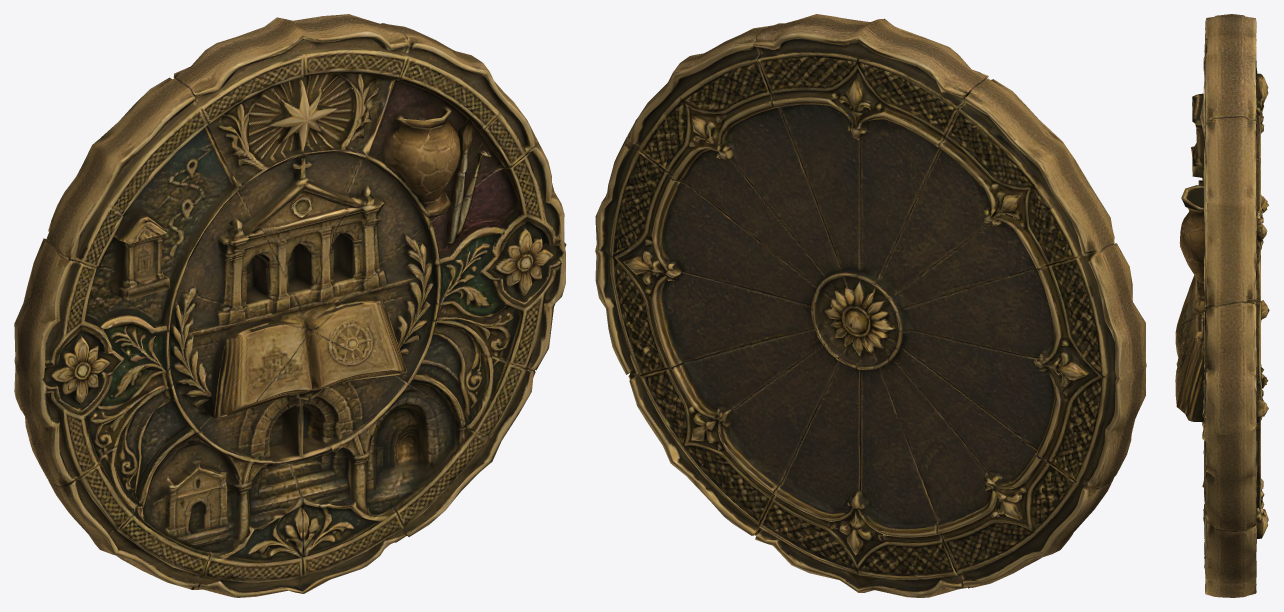
Rendered from Seal.glb.
3 views of the same model, side by side, from view 1: azimuth 30°, elevation 25°; view 2: azimuth 150°, elevation 25°; view 3: azimuth 270°, elevation 25° (orthographic). The views are drawn at different scales.
Visible parts, largest first — view 1: tripo_node_22ab0608-66ba-4b8e-902a-ce7c079e272f; view 2: tripo_node_22ab0608-66ba-4b8e-902a-ce7c079e272f; view 3: tripo_node_22ab0608-66ba-4b8e-902a-ce7c079e272f.
Boxes of the visible parts, x1,y1,x2,y2 form: tripo_node_22ab0608-66ba-4b8e-902a-ce7c079e272f: (14, 14, 566, 597); tripo_node_22ab0608-66ba-4b8e-902a-ce7c079e272f: (595, 14, 1146, 597); tripo_node_22ab0608-66ba-4b8e-902a-ce7c079e272f: (1175, 14, 1269, 597).
Size of the model in its own units: 0.9784 by 0.9817 by 0.154.
1 material, 1 textured.
